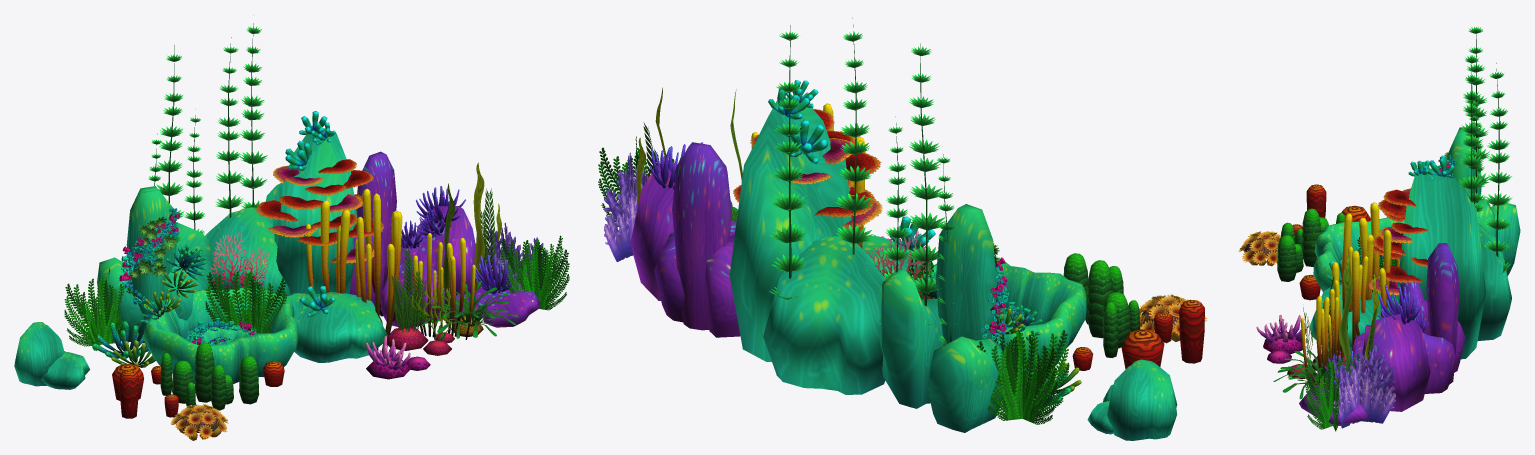
The model's file is CoralSet_18.FBX.
The picture shows the model from 3 angles, left to right: view 1: azimuth 30°, elevation 25°; view 2: azimuth 150°, elevation 25°; view 3: azimuth 270°, elevation 25°; orthographic projection. The views are drawn at different scales.
Parts seen in each view (by area): view 1: Set_18, Set_18_Part03, Set_18_Part01, Set_18_Part62, Set_18_Part102, Set_18_Part94, Set_18_Part99, Set_18_Part70, Set_18_Part111, Set_18_Part60, Set_18_Part61, Set_18_Part101 (+22 smaller); view 2: Set_18, Set_18_Part01, Set_18_Part61, Set_18_Part60, Set_18_Part03, Set_18_Part99, Set_18_Part94, Set_18_Part62, Set_18_Part106, Set_18_Part109, Set_18_Part107, Set_18_Part65 (+11 smaller); view 3: Set_18, Set_18_Part61, Set_18_Part62, Set_18_Part65, Set_18_Part102, Set_18_Part01, Set_18_Part94, Set_18_Part03, Set_18_Part101, Set_18_Part70, Set_18_Part106, Set_18_Part107 (+20 smaller).
Boxes of the visible parts, bbox=[...] form: Set_18: bbox=[205, 126, 387, 362]; Set_18_Part03: bbox=[143, 287, 298, 384]; Set_18_Part01: bbox=[97, 186, 213, 343]; Set_18_Part62: bbox=[380, 206, 540, 327]; Set_18_Part102: bbox=[305, 193, 402, 351]; Set_18_Part94: bbox=[160, 342, 259, 410]; Set_18_Part99: bbox=[14, 322, 89, 389]; Set_18_Part70: bbox=[499, 235, 569, 310]; Set_18_Part111: bbox=[205, 271, 287, 333]; Set_18_Part60: bbox=[64, 268, 133, 350]; Set_18_Part61: bbox=[349, 151, 418, 306]; Set_18_Part101: bbox=[413, 233, 475, 339]; Set_18: bbox=[729, 96, 933, 394]; Set_18_Part01: bbox=[880, 204, 1006, 432]; Set_18_Part61: bbox=[654, 142, 740, 337]; Set_18_Part60: bbox=[976, 329, 1068, 424]; Set_18_Part03: bbox=[909, 258, 1086, 374]; Set_18_Part99: bbox=[1087, 359, 1177, 440]; Set_18_Part94: bbox=[1063, 253, 1140, 357]; Set_18_Part62: bbox=[630, 160, 736, 300]; Set_18_Part106: bbox=[769, 25, 808, 299]; Set_18_Part109: bbox=[907, 43, 945, 324]; Set_18_Part107: bbox=[835, 18, 873, 270]; Set_18_Part65: bbox=[604, 152, 664, 261]; Set_18: bbox=[1309, 173, 1511, 359]; Set_18_Part61: bbox=[1399, 243, 1465, 393]; Set_18_Part62: bbox=[1299, 313, 1430, 425]; Set_18_Part65: bbox=[1324, 347, 1395, 428]; Set_18_Part102: bbox=[1331, 202, 1400, 352]; Set_18_Part01: bbox=[1446, 127, 1520, 276]; Set_18_Part94: bbox=[1277, 208, 1344, 281]; Set_18_Part03: bbox=[1313, 217, 1404, 298]; Set_18_Part101: bbox=[1300, 280, 1343, 385]; Set_18_Part70: bbox=[1305, 349, 1359, 431]; Set_18_Part106: bbox=[1484, 63, 1512, 275]; Set_18_Part107: bbox=[1459, 55, 1485, 211].
Size of the model in its own units: 271 by 155 by 137.
